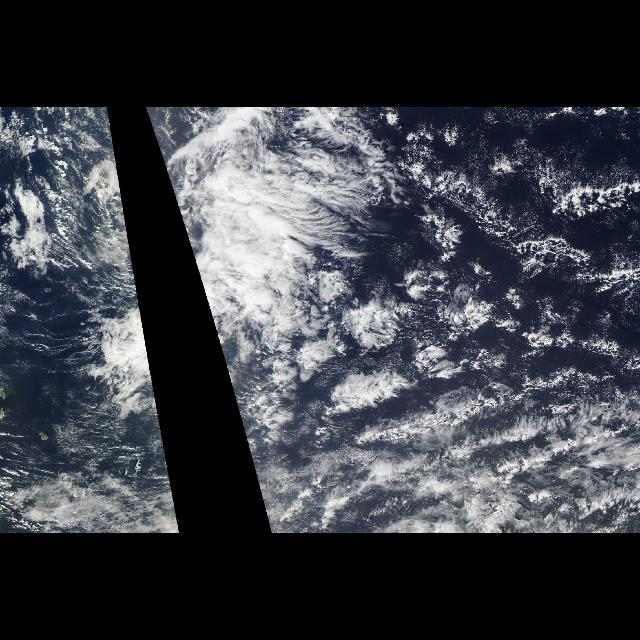Fish: (402, 114, 636, 290)
Gravel: (422, 140, 638, 306)
Sugar: (0, 290, 170, 480)
